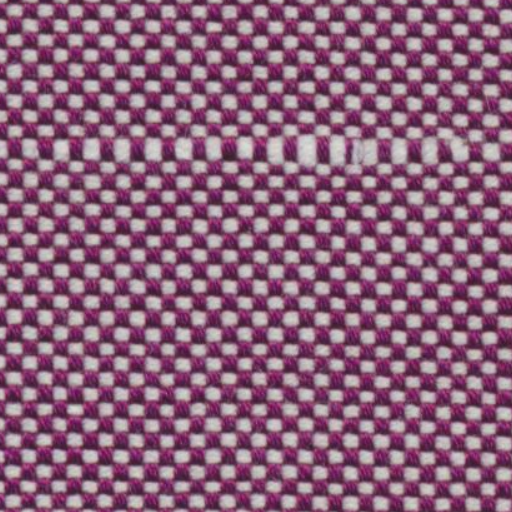DaiSha: (12, 120, 500, 178)
